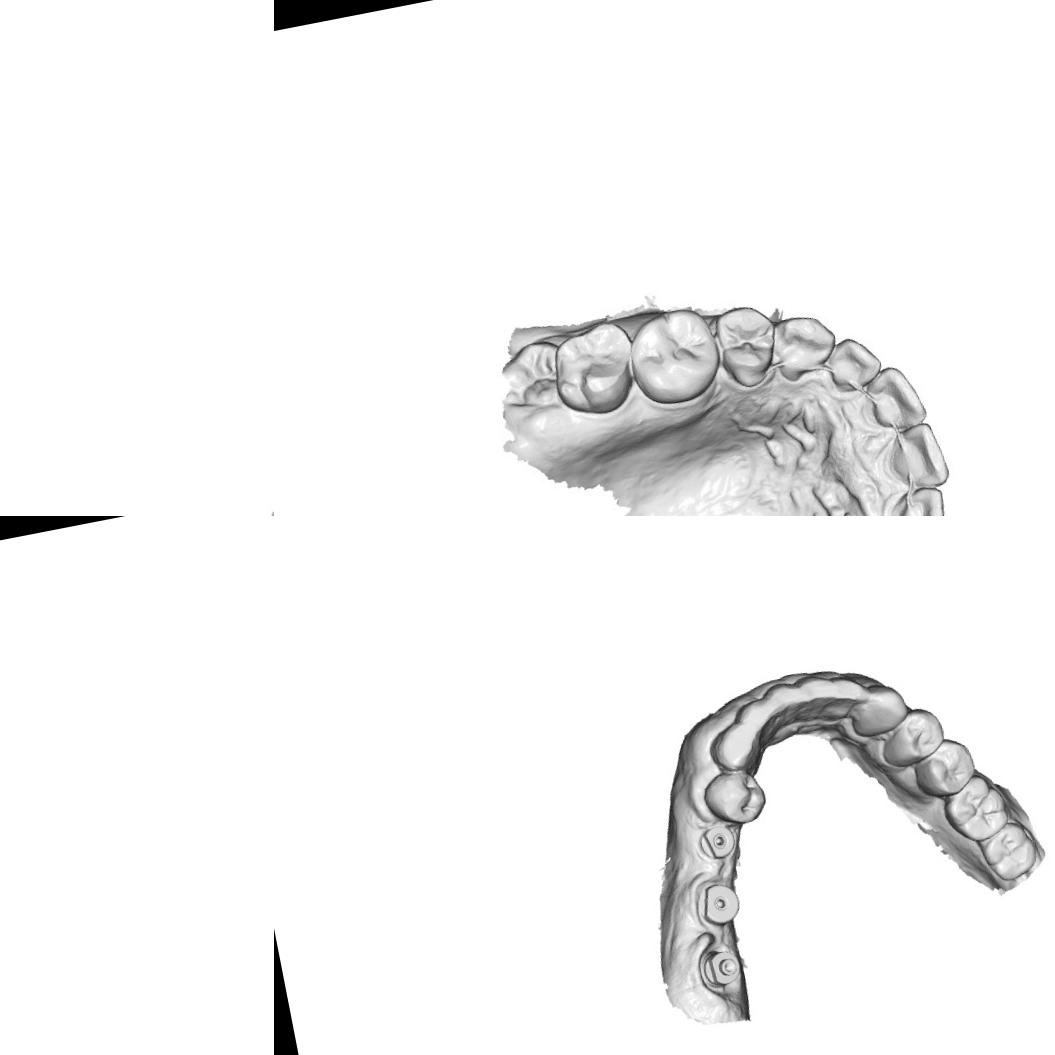canine: (764, 307, 843, 384), (709, 718, 764, 778), (852, 678, 910, 734)
implant: (694, 942, 745, 992), (696, 880, 744, 926), (694, 820, 738, 864)
incisor: (888, 415, 952, 491), (866, 362, 927, 440), (822, 330, 888, 396), (830, 667, 870, 717), (889, 484, 950, 516), (797, 673, 837, 717), (762, 678, 804, 717), (736, 700, 774, 731)
molar: (621, 299, 728, 412), (542, 316, 643, 424), (936, 770, 1013, 848), (974, 818, 1042, 886)
premolar: (708, 298, 781, 390), (698, 766, 770, 830), (914, 734, 980, 800), (881, 705, 948, 764)
